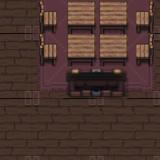Hide: (65, 66, 130, 98)
Obstacle: (96, 0, 129, 33), (96, 34, 130, 66), (33, 0, 65, 33), (33, 33, 65, 66), (65, 33, 97, 66), (65, 0, 96, 33), (129, 0, 160, 33), (129, 34, 160, 66)
